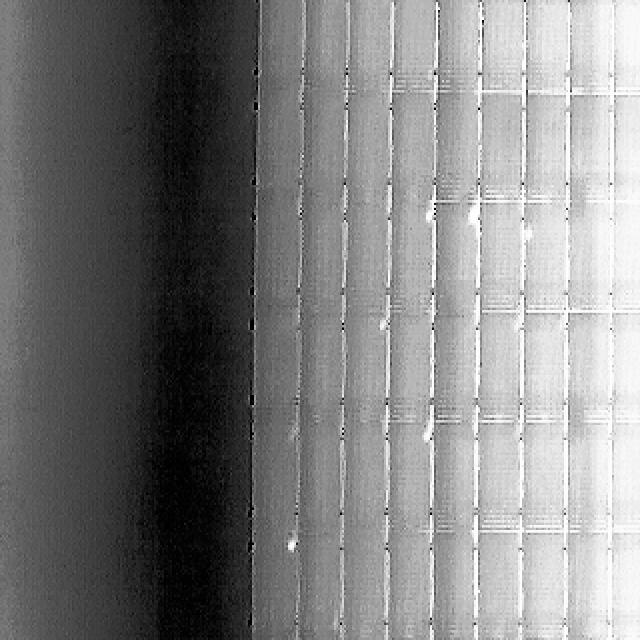Hotspots: (282, 538, 302, 561), (465, 206, 481, 230), (417, 207, 435, 226), (512, 317, 524, 341), (524, 220, 537, 242), (416, 430, 430, 448), (374, 321, 388, 338)
PV-modules: (298, 421, 345, 535), (292, 537, 344, 640), (343, 90, 390, 203), (297, 204, 344, 316), (387, 312, 434, 422), (296, 310, 343, 420), (432, 88, 479, 198), (478, 204, 524, 316), (302, 90, 348, 202), (390, 199, 436, 311), (431, 204, 477, 316), (252, 419, 298, 531), (522, 535, 571, 640), (522, 313, 569, 422), (474, 420, 522, 526), (523, 200, 569, 310), (256, 91, 302, 201), (255, 203, 300, 315), (342, 205, 388, 314), (343, 421, 388, 532), (476, 531, 523, 637), (388, 534, 435, 640), (253, 531, 300, 637), (254, 311, 301, 417), (476, 314, 522, 422), (428, 423, 474, 531), (474, 89, 520, 197), (523, 93, 569, 201), (388, 422, 433, 531), (566, 203, 610, 314), (522, 420, 568, 526), (430, 312, 475, 420), (391, 91, 435, 201), (564, 424, 608, 534), (343, 312, 388, 419), (428, 531, 474, 635), (348, 536, 394, 640), (566, 312, 610, 419), (565, 95, 609, 201), (566, 536, 610, 640), (568, 0, 612, 98), (432, 0, 478, 92), (344, 0, 390, 92), (474, 0, 518, 95), (524, 0, 568, 95), (304, 0, 348, 92), (258, 0, 302, 92), (604, 423, 640, 535), (392, 0, 436, 90), (604, 310, 640, 420), (606, 198, 640, 308), (610, 530, 640, 635), (608, 0, 640, 95), (612, 92, 640, 200)
